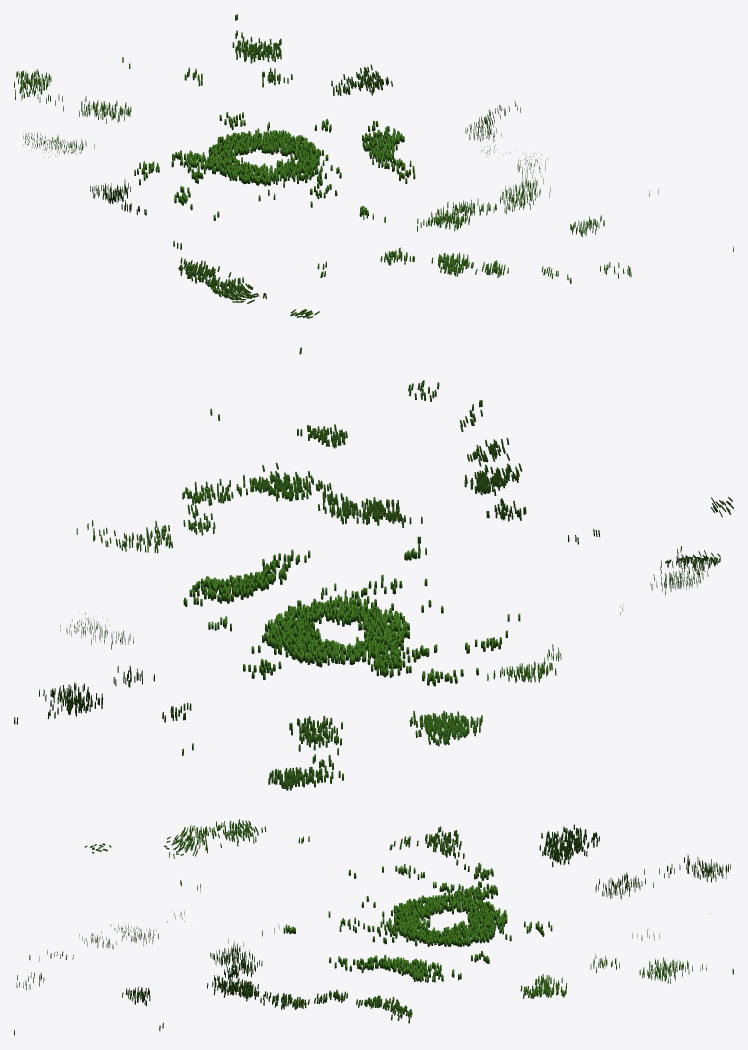
File: New Env Test.fbx
The picture shows the model from 3 angles, top to bottom: view 1: azimuth 30°, elevation 25°; view 2: azimuth 150°, elevation 25°; view 3: azimuth 270°, elevation 25°; orthographic projection. The views are drawn at different scales.
Parts seen in each view (by area): view 1: Procerual Grass; view 2: Procerual Grass; view 3: Procerual Grass.
Boxes of the visible parts, x1,y1,x2,y2 form: Procerual Grass: (14,14,733,318); Procerual Grass: (14,347,733,790); Procerual Grass: (14,819,733,1035).
Bounding box in the file's own units: 1093 × 52.13 × 1574.
